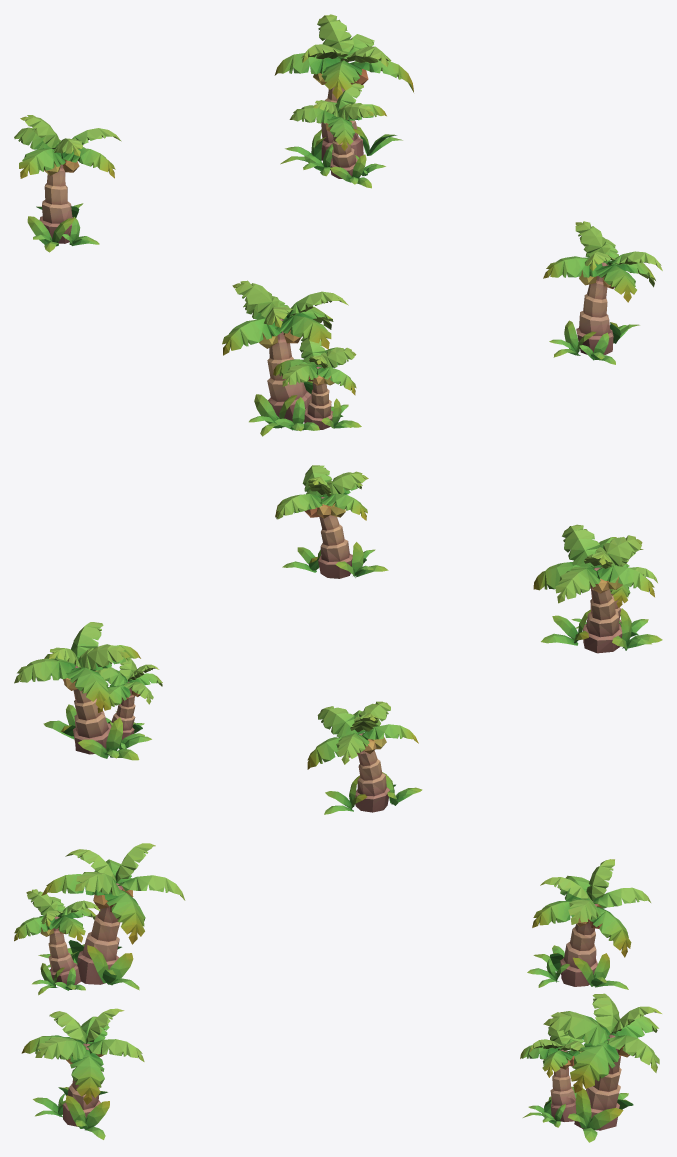
File: Props.fbx
3 renders of one model, top to bottom at view 1: azimuth 30°, elevation 25°; view 2: azimuth 150°, elevation 25°; view 3: azimuth 270°, elevation 25°, orthographic. The views are drawn at different scales.
Parts seen in each view (by area): view 1: yezishu01, yezishu01 (1), yezishu02 (1), yezishu02; view 2: yezishu01 (1), yezishu01, yezishu02, yezishu02 (1); view 3: yezishu01, yezishu01 (1), yezishu02, yezishu02 (1).
Part boxes in pixels (bbox=[...]): yezishu01: bbox=[222, 280, 361, 436]; yezishu01 (1): bbox=[274, 14, 413, 188]; yezishu02 (1): bbox=[543, 221, 662, 364]; yezishu02: bbox=[14, 115, 121, 252]; yezishu01 (1): bbox=[14, 622, 162, 760]; yezishu01: bbox=[533, 524, 662, 653]; yezishu02: bbox=[307, 701, 422, 814]; yezishu02 (1): bbox=[275, 465, 388, 578]; yezishu01: bbox=[14, 843, 185, 995]; yezishu01 (1): bbox=[520, 993, 661, 1142]; yezishu02: bbox=[527, 859, 650, 989]; yezishu02 (1): bbox=[21, 1008, 144, 1139].
Bounding box in the file's own units: 29.63 × 8.33 × 39.14.
